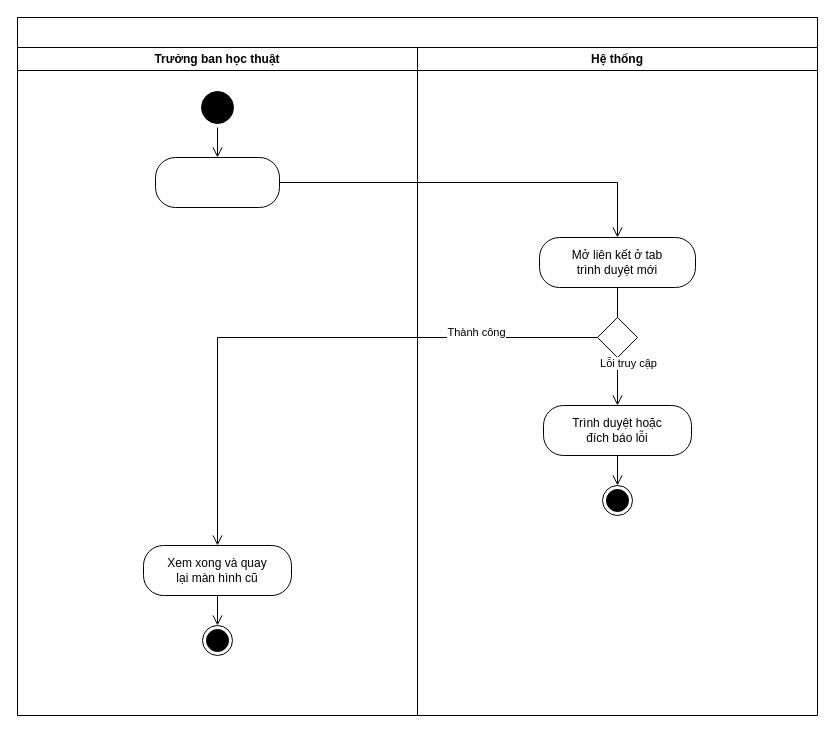
This 835x733 diagram has some shape labels left out. Each missing label, with the centre of its shape:
Nhấn liên kết tài nguyên: [217,182]
TRUY CẬP LIÊN KẾT TÀI NGUYÊN: [417,32]
